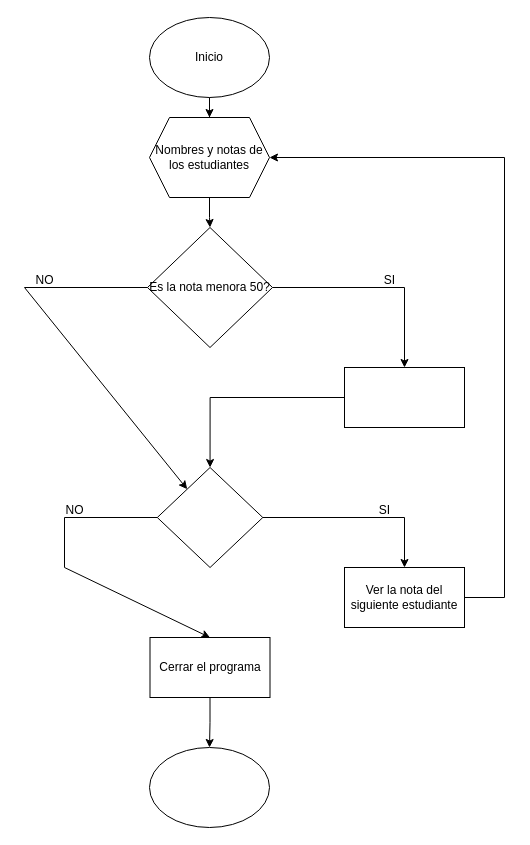
The diagram is 530 pixels wide and 845 high, and some of its shapes have lost their labels. The shapes that lost their labels are listed below. From the top down, each one's box as (x1, y1, x2, y2) in pixels, then its label:
(344, 366, 464, 428): Enviar mensaje: "Tu nota es menor a 50, estas en riesgo de fallar el curso"
(156, 466, 263, 568): Hay mas estudiantes?
(148, 746, 270, 828): FIN
